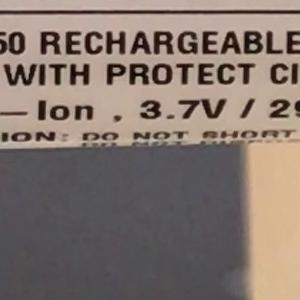3.7V: (130, 89, 237, 129)
